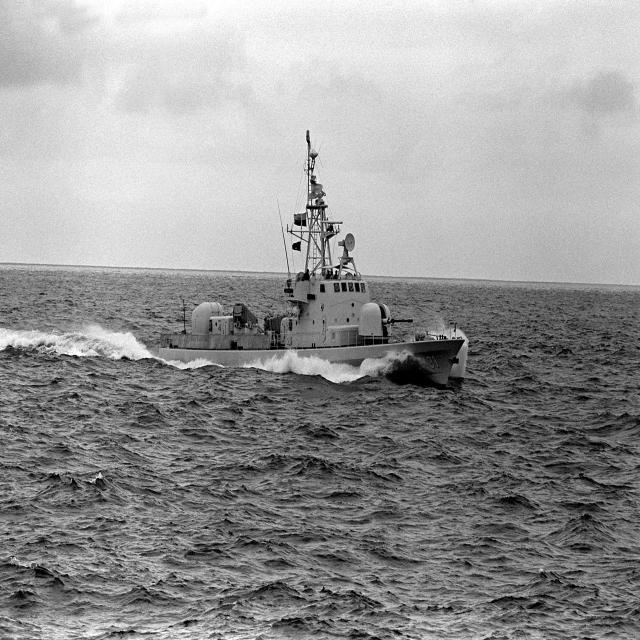navalvessels: (140, 138, 464, 390)
